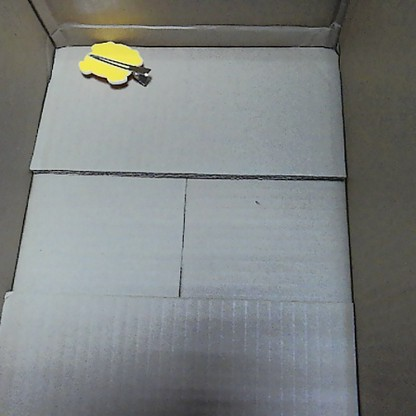dogclip: (77, 36, 155, 89)
